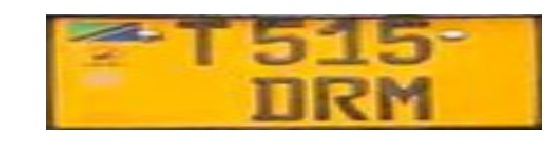T: (168, 16, 240, 72)
